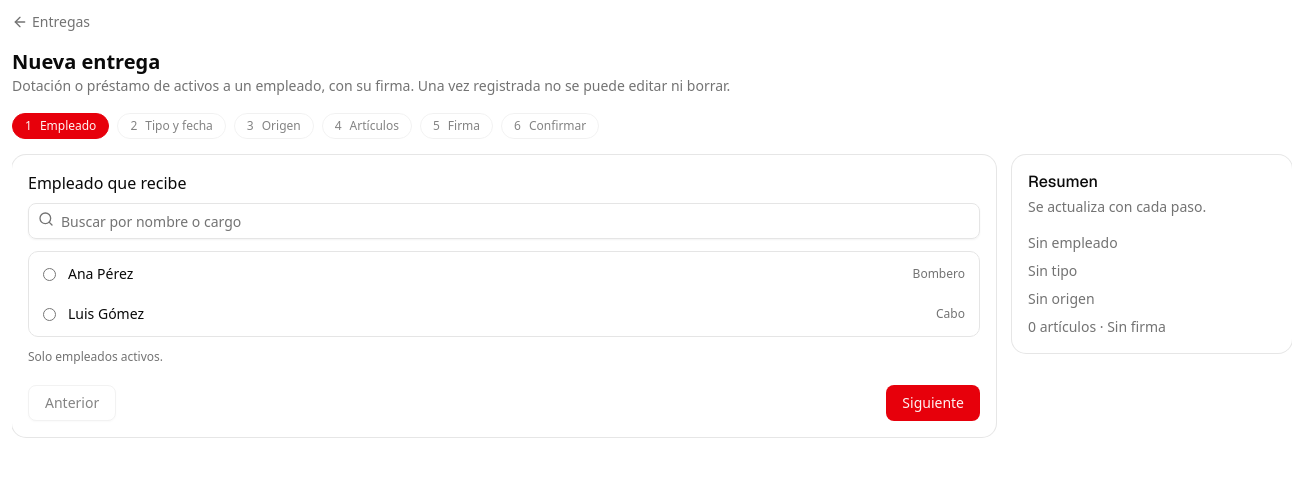
NewDeliveryScreen (/entregas/nueva, 007 US1, RN-023..RN-025) › no avanza sin empleado
Expected: the radio button labelled "Ana Pérez Bombero" is shown, [43,268,56,280]
Click the button "Siguiente".
click(933, 403)  # box [886,385,980,421]
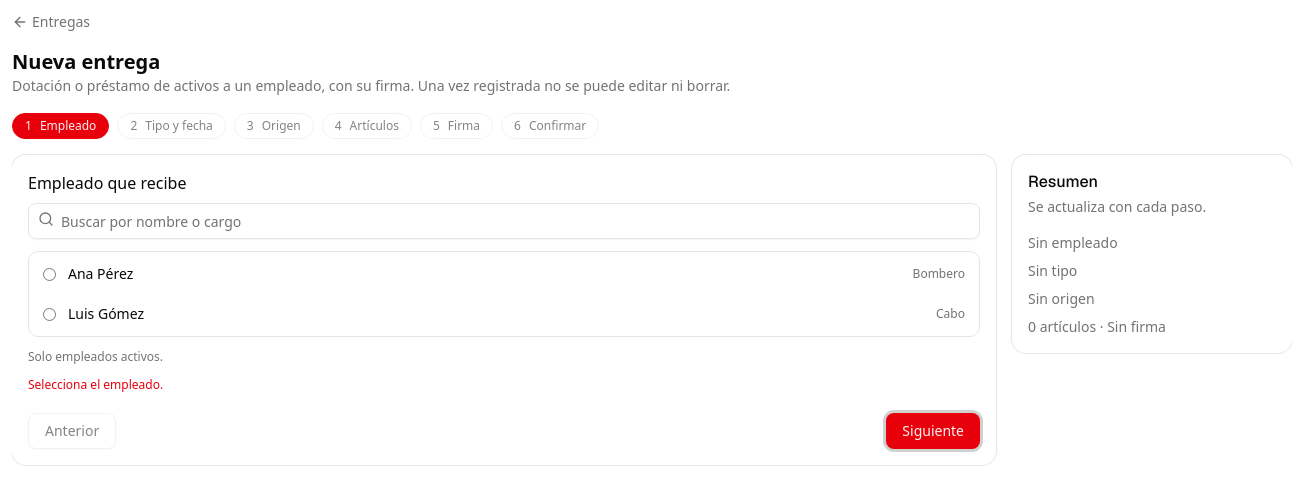
Expected: the list item "1 Empleado" is shown, [12,112,109,139]
Expected: the text "Selecciona el empleado." is shown, [28,376,163,393]
